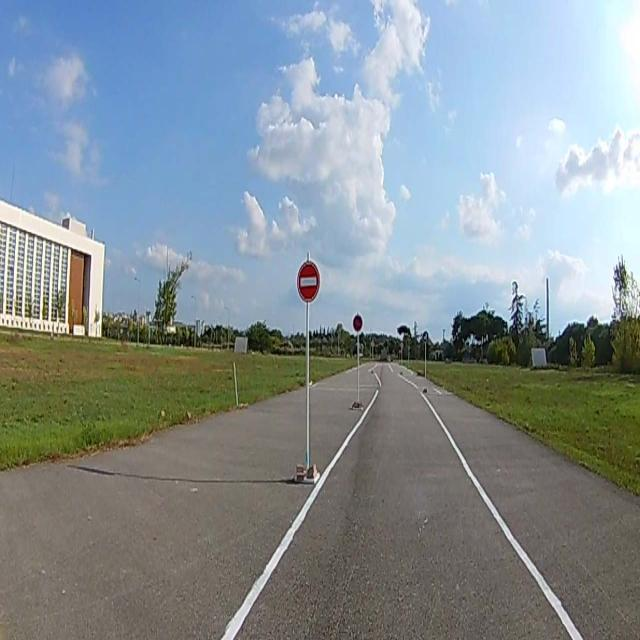girisyok: (296, 260, 318, 302)
